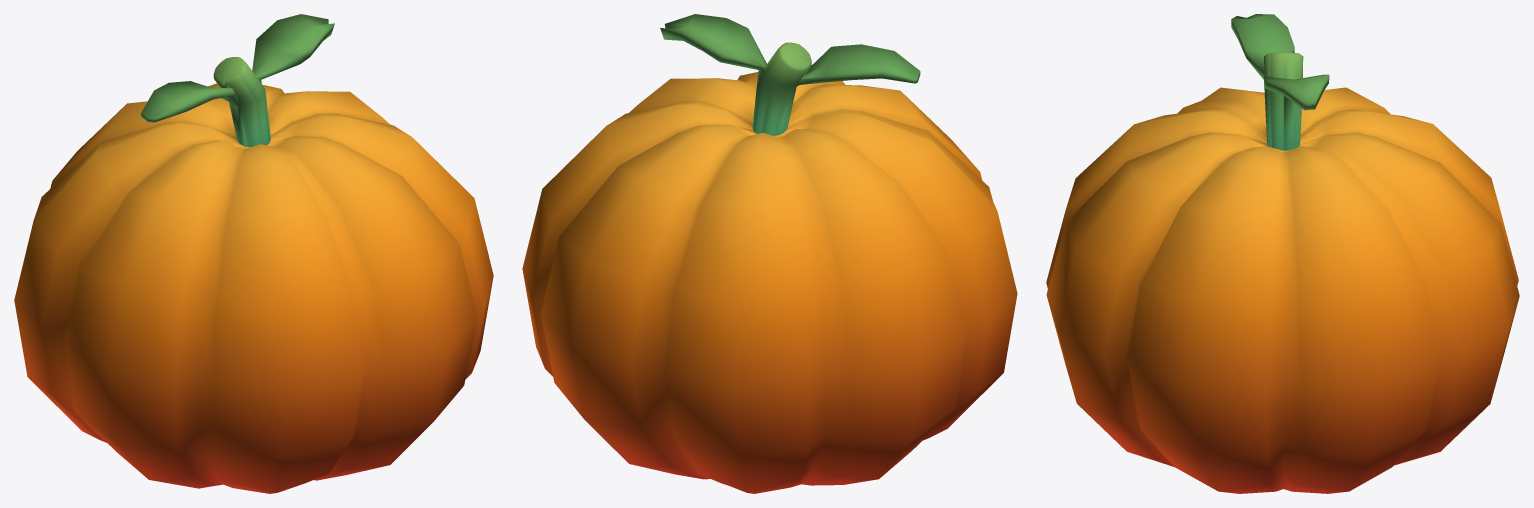
The model's file is Pumpkin.fbx.
The picture shows the model from 3 angles, left to right: view 1: azimuth 30°, elevation 25°; view 2: azimuth 150°, elevation 25°; view 3: azimuth 270°, elevation 25°; orthographic projection. The views are drawn at different scales.
Visible parts, largest first — view 1: Pumpkin.008; view 2: Pumpkin.008; view 3: Pumpkin.008.
Part boxes in pixels (x1,y1,x2,y2): Pumpkin.008: (14,14,493,493); Pumpkin.008: (522,14,1017,493); Pumpkin.008: (1046,14,1519,493).
Bounding box in the file's own units: 0.4142 × 0.3951 × 0.4241.
